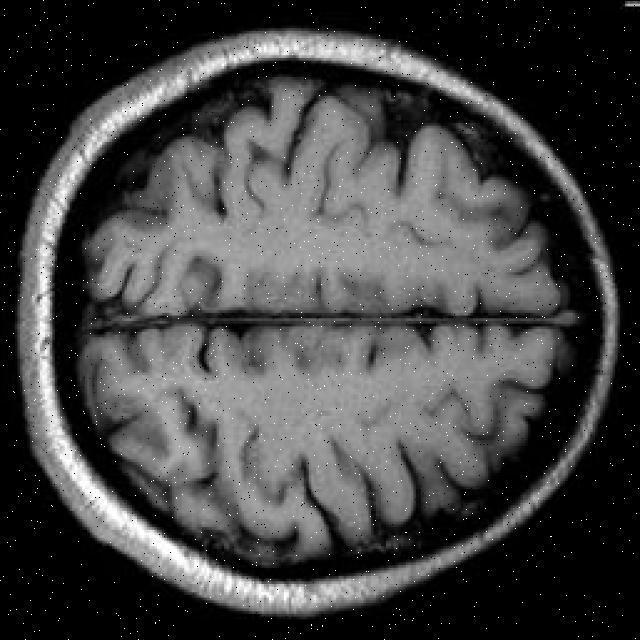No_Tumor: (17, 29, 619, 614)
